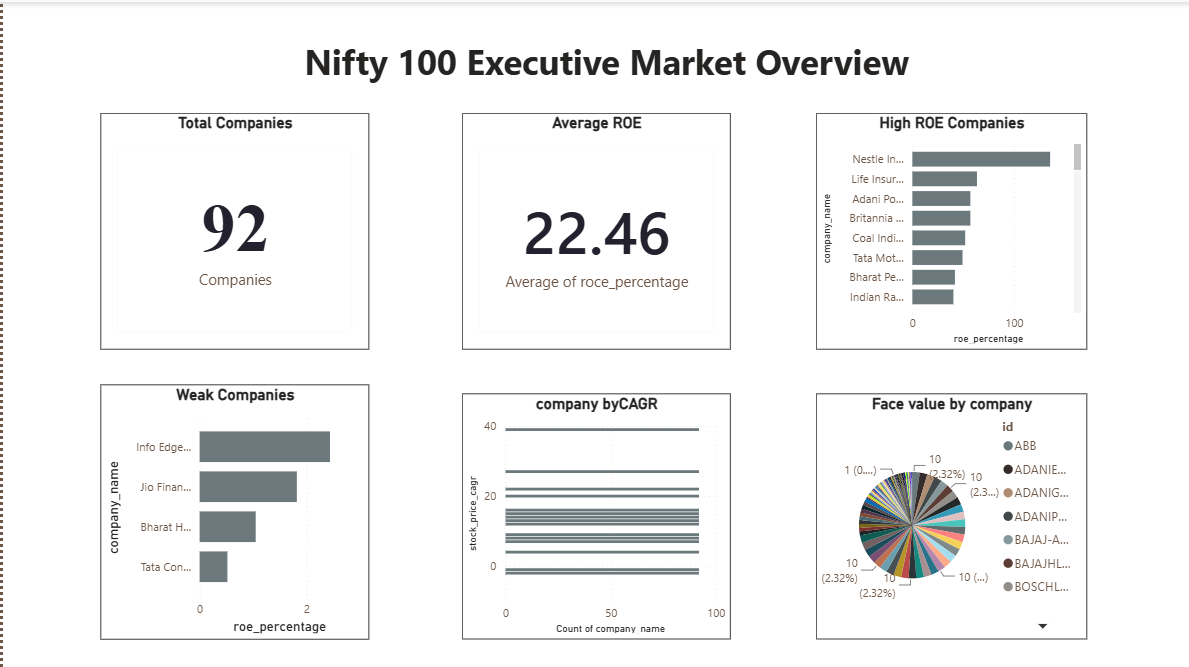

The dashboard page shown, as its layout file describes it:
{"tool":"powerbi","page":{"name":"company overview","canvas":[1280,720],"ordinal":0},"visuals":[{"type":"textbox","box":[203.3,33.3,895,63.3],"z":0},{"type":"cardVisual","title":"Total Companies","fields":{"Data":["CountNonNull(Companies  |  92 records (Companies).company_name)"]},"box":[105,120,290,255],"z":1000},{"type":"cardVisual","title":"Average ROE","fields":{"Data":["Avg(Companies  |  92 records (Companies).roce_percentage)"]},"box":[495,120,290,255],"z":2000},{"type":"barChart","title":"High ROE Companies","fields":{"Y":["Max(Companies  |  92 records (Companies).roe_percentage)"],"Category":["Companies  |  92 records (Companies).company_name"]},"box":[877.5,120,292.5,255],"z":3000},{"type":"barChart","title":"Weak Companies","fields":{"Y":["Max(Companies  |  92 records (Companies).roe_percentage)"],"Category":["Companies  |  92 records (Companies).company_name"]},"box":[105,412.5,290,275],"z":4000},{"type":"clusteredBarChart","title":"company byCAGR","fields":{"Category":["Analysis  |  20 records (Analysis).stock_price_cagr"],"Y":["CountNonNull(Companies  |  92 records (Companies).company_name)"]},"box":[495,422.5,290,265],"z":5000},{"type":"pieChart","title":"Face value by company","fields":{"Category":["Companies  |  92 records (Companies).id"],"Y":["Sum(Companies  |  92 records (Companies).face_value)"]},"box":[877.5,422.5,292.5,265],"z":6000}]}

Visuals, with their boxes in screenshot pixels (x1, y1, x2, y2), scaled from the page's 1280x720 canvas onto the 1189x667 screenshot:
textbox: region(189, 31, 1020, 89)
"Total Companies" cardVisual: region(98, 111, 367, 347)
"Average ROE" cardVisual: region(460, 111, 729, 347)
"High ROE Companies" barChart: region(815, 111, 1087, 347)
"Weak Companies" barChart: region(98, 382, 367, 637)
"company byCAGR" clusteredBarChart: region(460, 391, 729, 637)
"Face value by company" pieChart: region(815, 391, 1087, 637)
